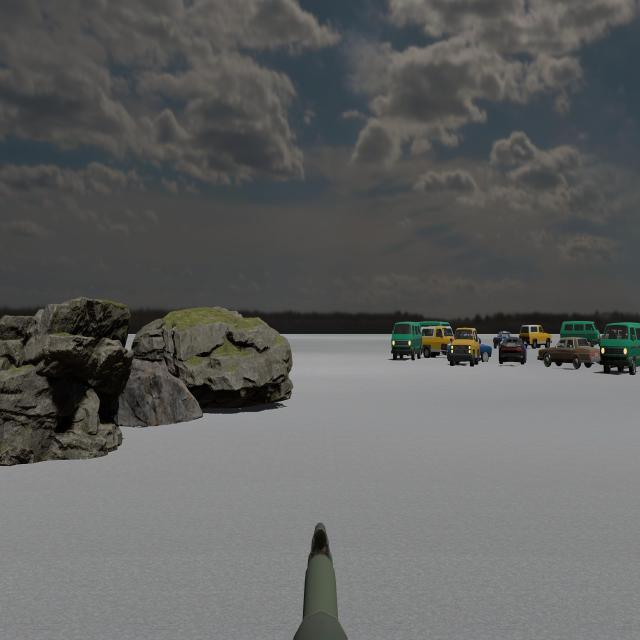car: (599, 322, 640, 374), (537, 338, 600, 368), (448, 327, 480, 366), (391, 321, 422, 360), (421, 326, 455, 357), (560, 321, 600, 347), (499, 336, 527, 365), (519, 324, 551, 349), (493, 331, 517, 349)
